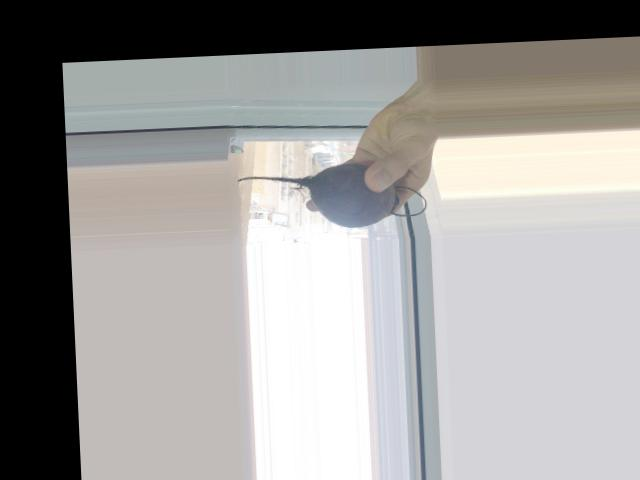beet: (236, 159, 426, 232)
